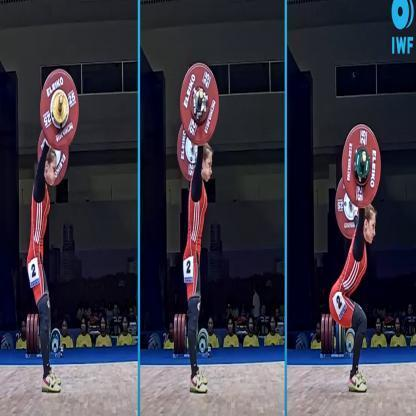barbell: (174, 60, 220, 181), (334, 122, 381, 240), (37, 68, 76, 186)
